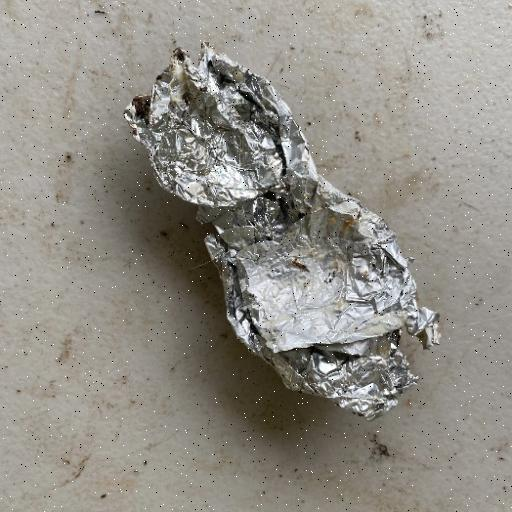Metal: (122, 40, 442, 422)
